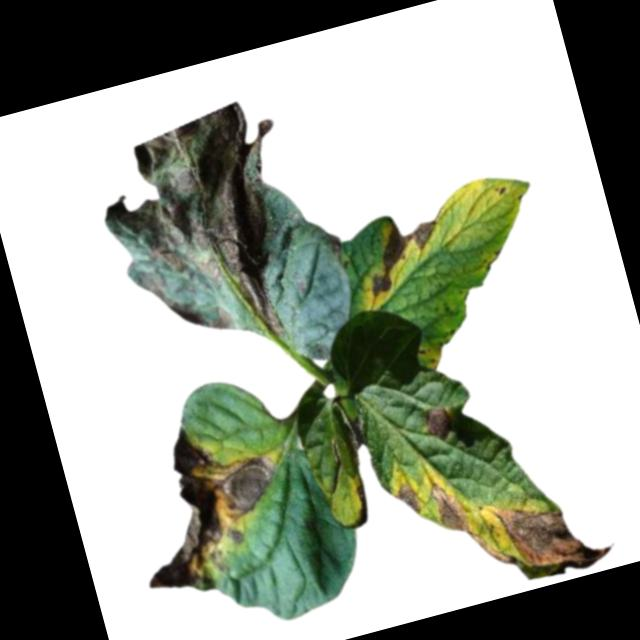Early_blight: (81, 93, 329, 377), (108, 407, 300, 605), (424, 442, 618, 599), (354, 207, 451, 299), (421, 405, 455, 444), (395, 484, 423, 518), (326, 232, 346, 260)
